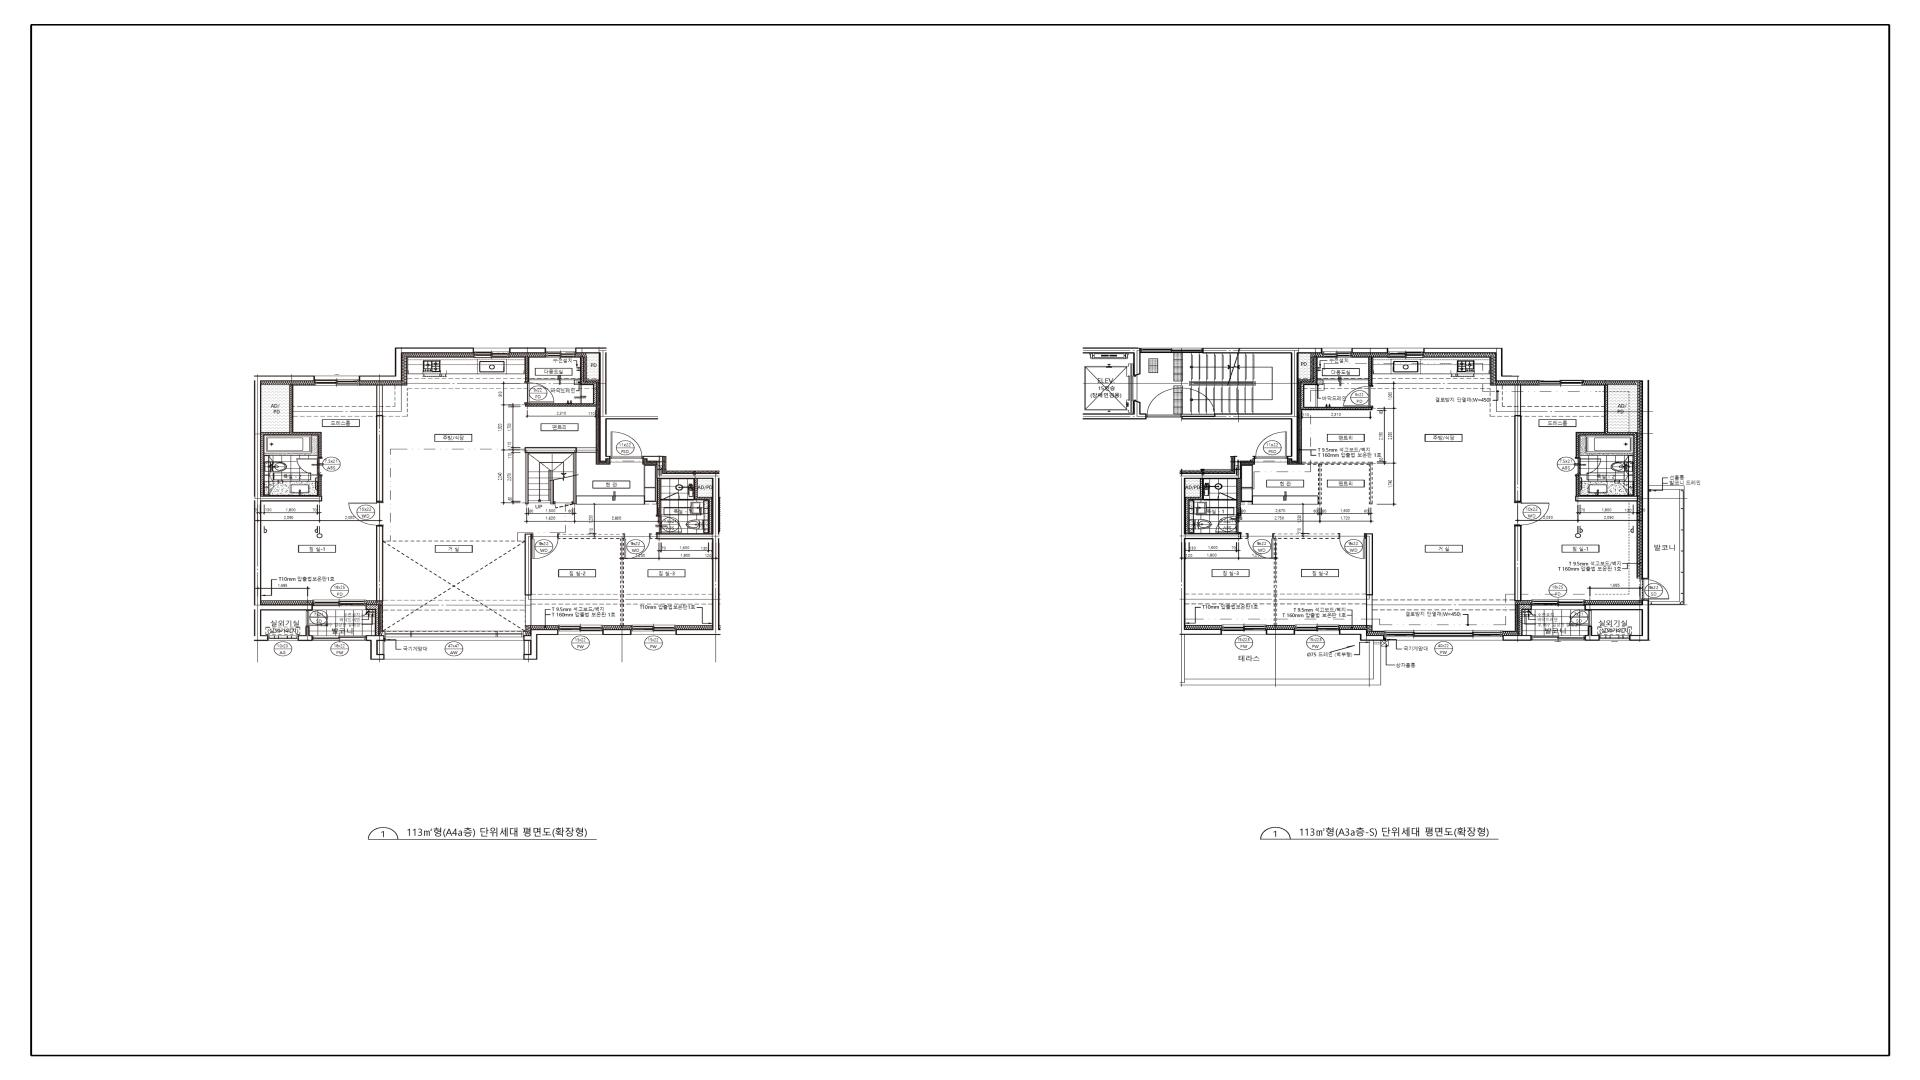door: (1146, 388, 1182, 418), (611, 431, 642, 459), (1255, 431, 1287, 459), (348, 502, 384, 526), (1514, 502, 1549, 526), (1247, 533, 1274, 559), (531, 534, 559, 559), (1338, 534, 1366, 559), (525, 381, 555, 404), (624, 534, 650, 559), (1344, 385, 1373, 407), (1642, 579, 1669, 600), (1215, 514, 1242, 533), (297, 458, 323, 476), (1576, 458, 1602, 476), (657, 516, 682, 534), (306, 611, 330, 628), (1568, 611, 1592, 626), (661, 492, 680, 501), (1217, 492, 1236, 501), (554, 501, 572, 509)
wall: (1582, 376, 1684, 641), (255, 376, 322, 641), (1182, 348, 1321, 462), (642, 456, 720, 636), (1182, 456, 1255, 636), (1576, 385, 1638, 501), (261, 385, 322, 496), (559, 534, 624, 626), (1274, 534, 1338, 626), (525, 447, 597, 505), (575, 348, 611, 462), (1300, 356, 1373, 410), (359, 348, 473, 381), (1424, 348, 1539, 381), (525, 356, 597, 406), (1302, 462, 1373, 505), (1185, 479, 1218, 534), (680, 479, 712, 533), (1083, 347, 1141, 376), (1083, 400, 1146, 419), (524, 629, 558, 659), (376, 385, 384, 502), (1514, 385, 1522, 502), (1366, 534, 1373, 626), (525, 534, 531, 626), (376, 526, 384, 601), (1514, 526, 1522, 601), (1340, 629, 1385, 641), (367, 636, 385, 659), (367, 604, 380, 636), (1519, 604, 1531, 636), (1585, 626, 1600, 641), (509, 348, 546, 353), (1352, 348, 1389, 353), (1236, 479, 1241, 516), (298, 626, 311, 641), (1266, 629, 1295, 636), (604, 629, 630, 636), (1503, 636, 1532, 641), (657, 479, 661, 516), (525, 356, 530, 381), (1369, 356, 1373, 385), (550, 480, 554, 504), (318, 476, 322, 496), (650, 534, 657, 539), (1241, 534, 1247, 539)
window: (385, 632, 524, 641), (1385, 630, 1503, 641), (313, 600, 367, 611), (1531, 600, 1585, 611), (558, 625, 604, 636), (630, 625, 676, 636), (1221, 625, 1267, 636), (1295, 625, 1340, 636), (315, 376, 359, 386), (1539, 376, 1582, 386), (1389, 348, 1424, 359), (473, 348, 509, 357), (1141, 348, 1203, 353), (311, 636, 367, 641), (1321, 348, 1352, 357), (1532, 636, 1585, 641), (546, 348, 575, 357), (1600, 636, 1630, 641), (269, 636, 298, 641)
